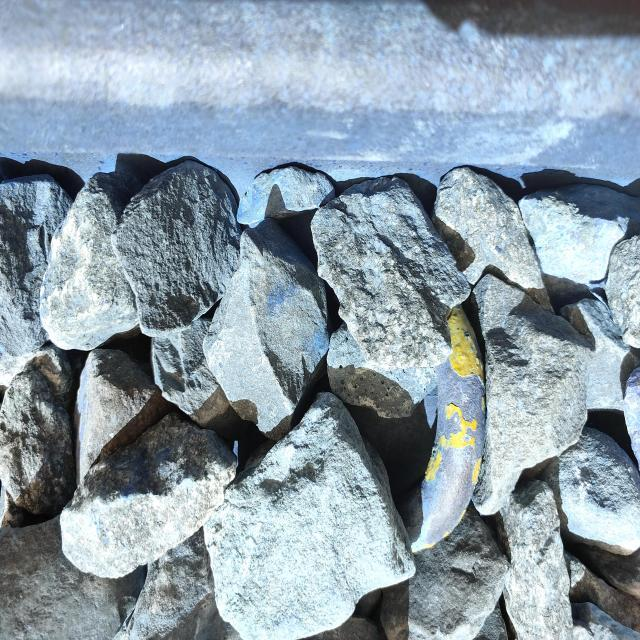Good Fasteners: (412, 305, 486, 551)
